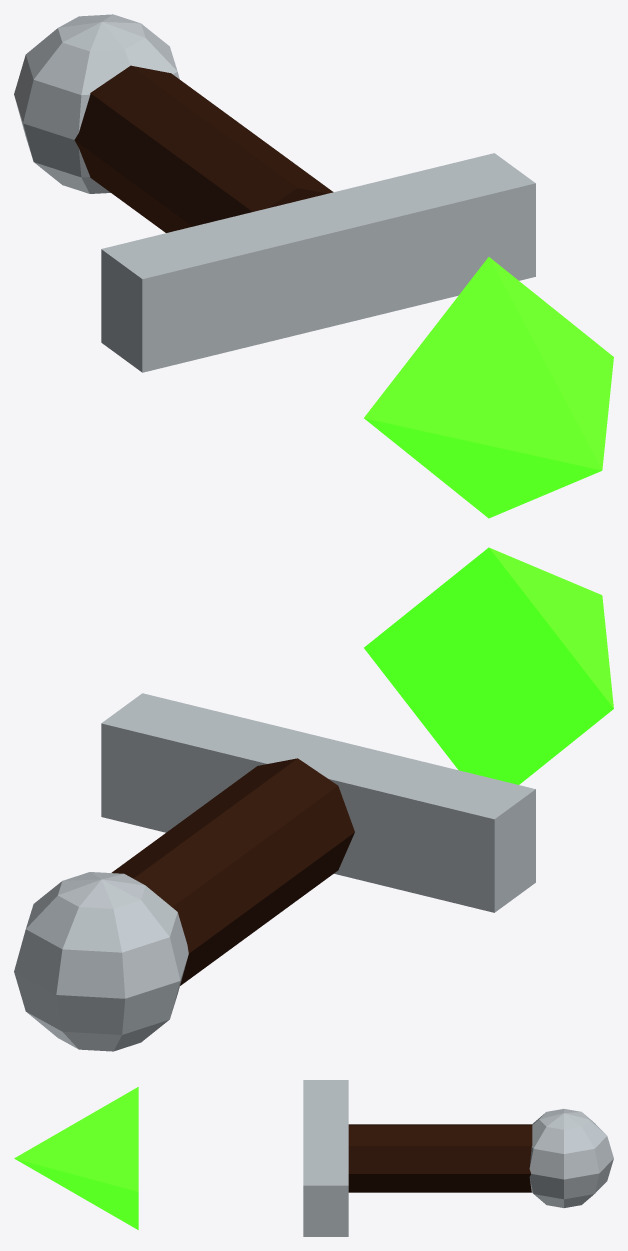
File: venom-dagger.glb
3 renders of one model, top to bottom at view 1: azimuth 30°, elevation 25°; view 2: azimuth 150°, elevation 25°; view 3: azimuth 270°, elevation 25°, orthographic. The views are drawn at different scales.
Parts seen in each view (by area): view 1: venom-dagger; view 2: venom-dagger; view 3: venom-dagger.
Boxes of the visible parts, box(x1,y1,x2,y2) form: venom-dagger: box(14, 14, 613, 518); venom-dagger: box(14, 547, 613, 1051); venom-dagger: box(14, 1080, 613, 1236).
Bounding box in the file's own units: 0.11 × 0.07 × 0.2645.
